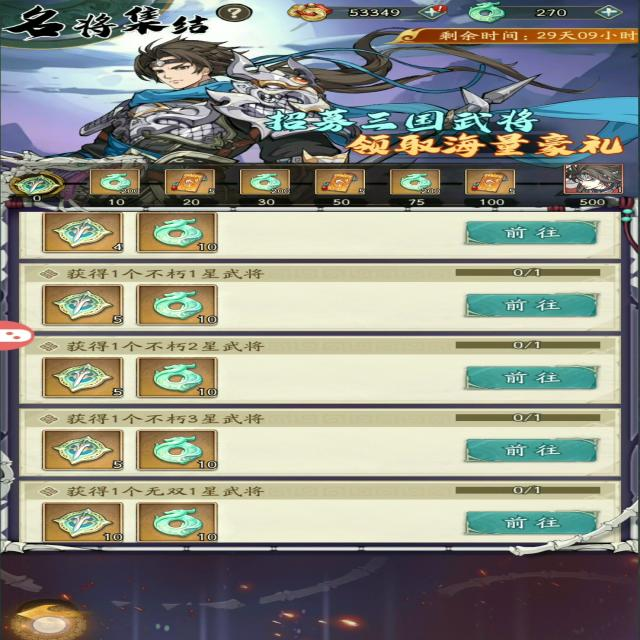hint-reddot: (432, 3, 453, 17)
operation-back: (8, 600, 94, 634)
operation-buy: (460, 220, 602, 251), (458, 368, 598, 393), (454, 294, 599, 318), (462, 438, 602, 462), (466, 513, 600, 534)
operation-rule: (196, 5, 258, 22)
ref-buytext: (38, 402, 274, 425), (34, 331, 275, 352), (52, 478, 278, 498), (56, 263, 294, 280)
